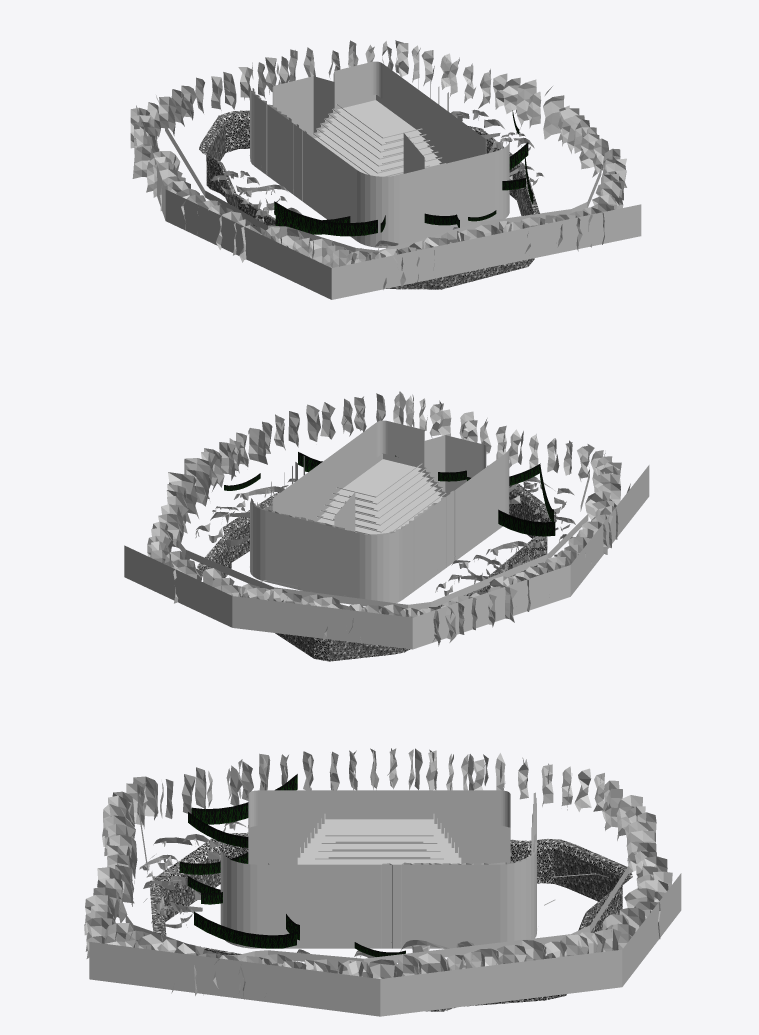
Rendered from arena.glb.
3 views of the same model, one above another, from view 1: azimuth 30°, elevation 25°; view 2: azimuth 150°, elevation 25°; view 3: azimuth 270°, elevation 25° (orthographic). The views are drawn at different scales.
Visible parts, largest first — view 1: mesh_10, mesh_18, mesh_7, mesh_19, mesh_2, mesh_6, mesh_12, mesh_8; view 2: mesh_10, mesh_18, mesh_7, mesh_19, mesh_6, mesh_12, mesh_2, mesh_8; view 3: mesh_10, mesh_18, mesh_19, mesh_7, mesh_2, mesh_12, mesh_6, mesh_8.
Boxes of the visible parts, left/top/right/bottom form: mesh_10: left=130, top=40, right=641, bottom=299; mesh_18: left=250, top=58, right=509, bottom=247; mesh_7: left=313, top=95, right=445, bottom=176; mesh_19: left=199, top=110, right=539, bottom=289; mesh_2: left=274, top=110, right=533, bottom=236; mesh_6: left=210, top=109, right=543, bottom=250; mesh_12: left=165, top=124, right=601, bottom=253; mesh_8: left=245, top=94, right=446, bottom=197; mesh_10: left=124, top=391, right=649, bottom=649; mesh_18: left=250, top=420, right=509, bottom=603; mesh_7: left=314, top=454, right=445, bottom=534; mesh_19: left=197, top=483, right=556, bottom=661; mesh_6: left=195, top=465, right=575, bottom=595; mesh_12: left=178, top=471, right=589, bottom=610; mesh_2: left=224, top=452, right=555, bottom=536; mesh_8: left=250, top=453, right=455, bottom=601; mesh_10: left=84, top=748, right=681, bottom=1016; mesh_18: left=220, top=790, right=536, bottom=948; mesh_19: left=149, top=832, right=632, bottom=1011; mesh_7: left=297, top=813, right=461, bottom=864; mesh_2: left=179, top=774, right=405, bottom=957; mesh_12: left=125, top=807, right=628, bottom=965; mesh_6: left=139, top=821, right=475, bottom=957; mesh_8: left=300, top=812, right=608, bottom=942.
Size of the model in its own units: 630 by 156 by 792.
4 materials, 4 textured.
